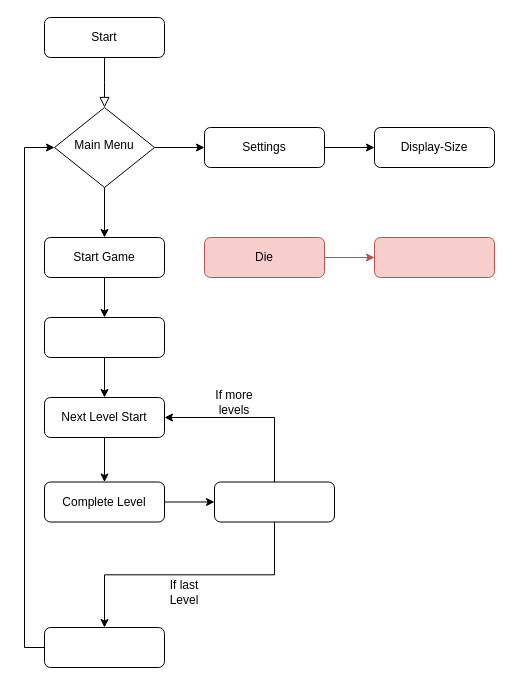
The diagram is 512 pixels wide and 685 high, and some of its shapes have lost their labels. The shapes that lost their labels are listed below. From the top down, each one's box as (x1, y1, x2, y2) in pixels, then its label:
(374, 236, 494, 278): Restart Current Level
(44, 316, 164, 358): Backstory Scene
(214, 481, 334, 522): Save Time
(44, 626, 164, 668): Finish Scene
